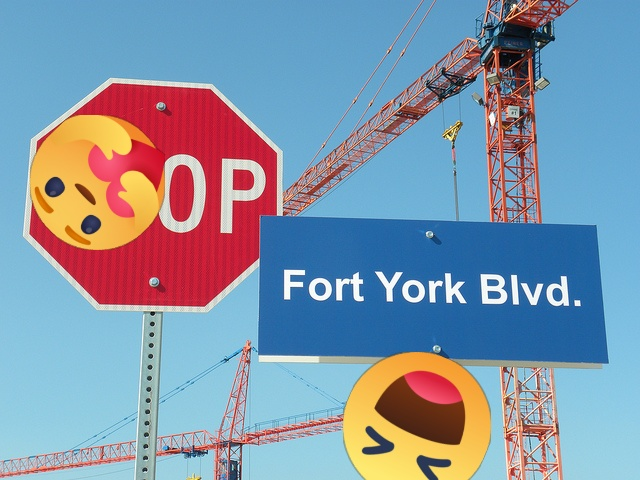care: (30, 115, 165, 250)
haha: (343, 352, 491, 480)
